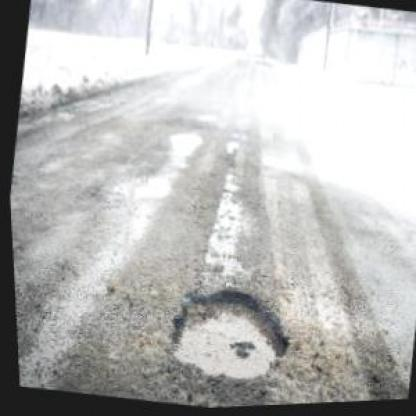pothole: (154, 272, 298, 392)
